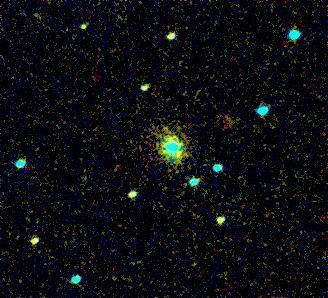star: (70, 10, 100, 40)
